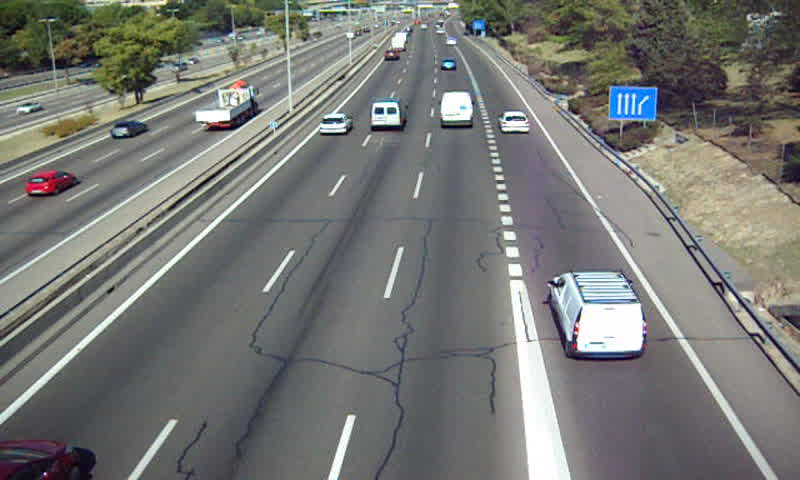car: (318, 113, 352, 138), (498, 110, 530, 134), (440, 58, 457, 72)
van: (547, 271, 648, 359), (372, 97, 407, 132), (440, 92, 473, 128)
